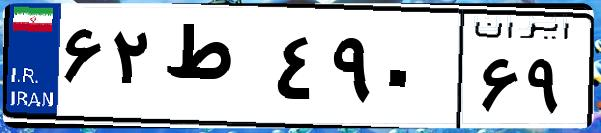0: (385, 28, 445, 110)
2: (110, 28, 158, 98)
4: (270, 28, 330, 110)
6: (57, 26, 110, 100), (475, 38, 525, 113)
9: (330, 28, 385, 110), (525, 38, 570, 115)
ط: (158, 20, 270, 120)
